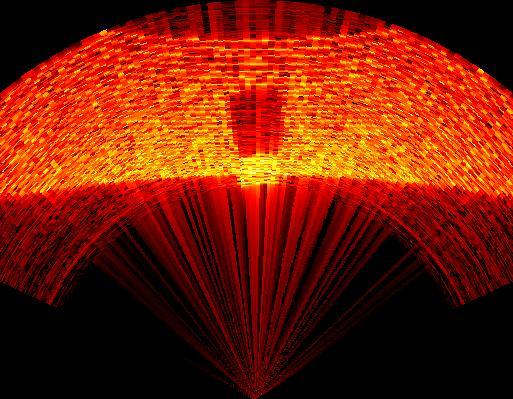box_crate: (226, 86, 284, 158)
